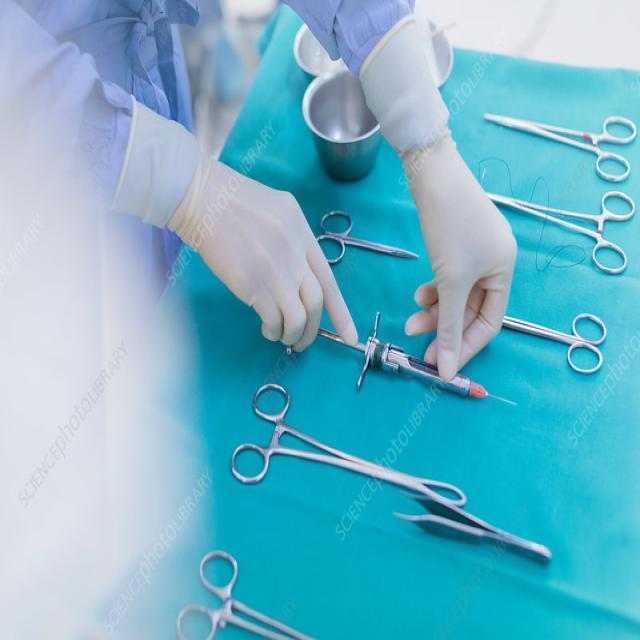B3: (220, 362, 468, 512), (162, 523, 347, 640), (463, 168, 640, 285), (469, 85, 640, 195), (482, 287, 622, 391), (302, 194, 424, 288)
